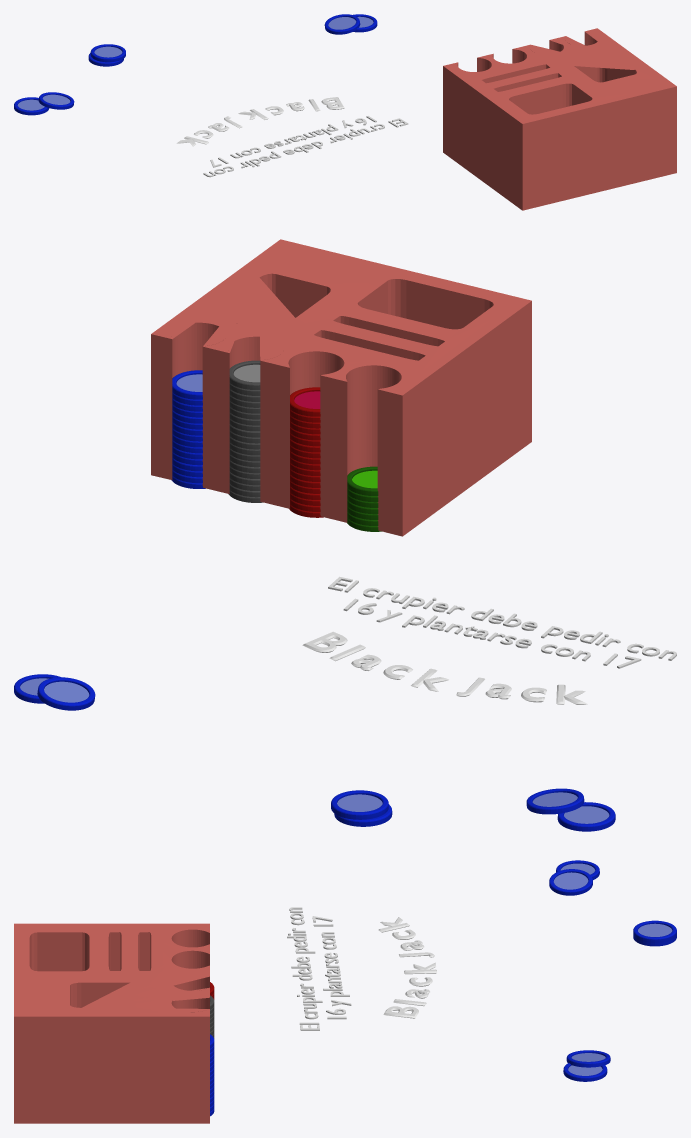
File: tapeteBJ.fbx
3 renders of one model, top to bottom at view 1: azimuth 30°, elevation 25°; view 2: azimuth 150°, elevation 25°; view 3: azimuth 270°, elevation 25°, orthographic. The views are drawn at different scales.
Visible parts, largest first — view 1: Plano.001, Text, Texto.001, Cilindro.006, Cilindro.005, Cilindro.004, Cilindro.003; view 2: Plano.001, Text, Cilindro.000, Cilindro.001, Cilindro.009, Texto.001, Cilindro.006, Cilindro.002, Cilindro.005, Cilindro.004; view 3: Plano.001, Text, Texto.001, Cilindro.006, Cilindro.005, Cilindro.004, Cilindro.003.
Part boxes in pixels (bbox=[...]): Plano.001: bbox=[443, 28, 676, 210]; Text: bbox=[203, 116, 408, 177]; Texto.001: bbox=[176, 97, 344, 146]; Cilindro.006: bbox=[14, 92, 74, 115]; Cilindro.005: bbox=[88, 44, 125, 66]; Cilindro.004: bbox=[324, 14, 360, 34]; Cilindro.003: bbox=[353, 14, 377, 32]; Plano.001: bbox=[151, 239, 531, 536]; Text: bbox=[328, 576, 676, 668]; Cilindro.000: bbox=[228, 360, 262, 502]; Cilindro.001: bbox=[289, 387, 323, 517]; Cilindro.009: bbox=[171, 370, 205, 488]; Texto.001: bbox=[302, 631, 587, 704]; Cilindro.006: bbox=[526, 788, 615, 831]; Cilindro.002: bbox=[347, 466, 381, 531]; Cilindro.005: bbox=[331, 790, 392, 826]; Cilindro.004: bbox=[37, 677, 95, 710]; Plano.001: bbox=[14, 923, 209, 1123]; Text: bbox=[287, 907, 351, 1030]; Texto.001: bbox=[378, 917, 436, 1018]; Cilindro.006: bbox=[549, 860, 599, 895]; Cilindro.005: bbox=[633, 920, 676, 946]; Cilindro.004: bbox=[566, 1050, 610, 1067]; Cilindro.003: bbox=[563, 1063, 607, 1081].
Size of what is drawn, in the model's own units: 231 by 45.03 by 248.
